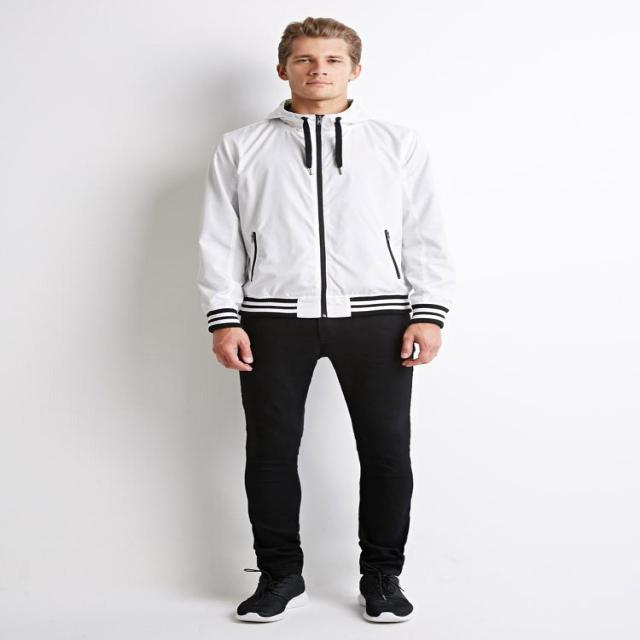Jacket: (187, 102, 458, 331)
